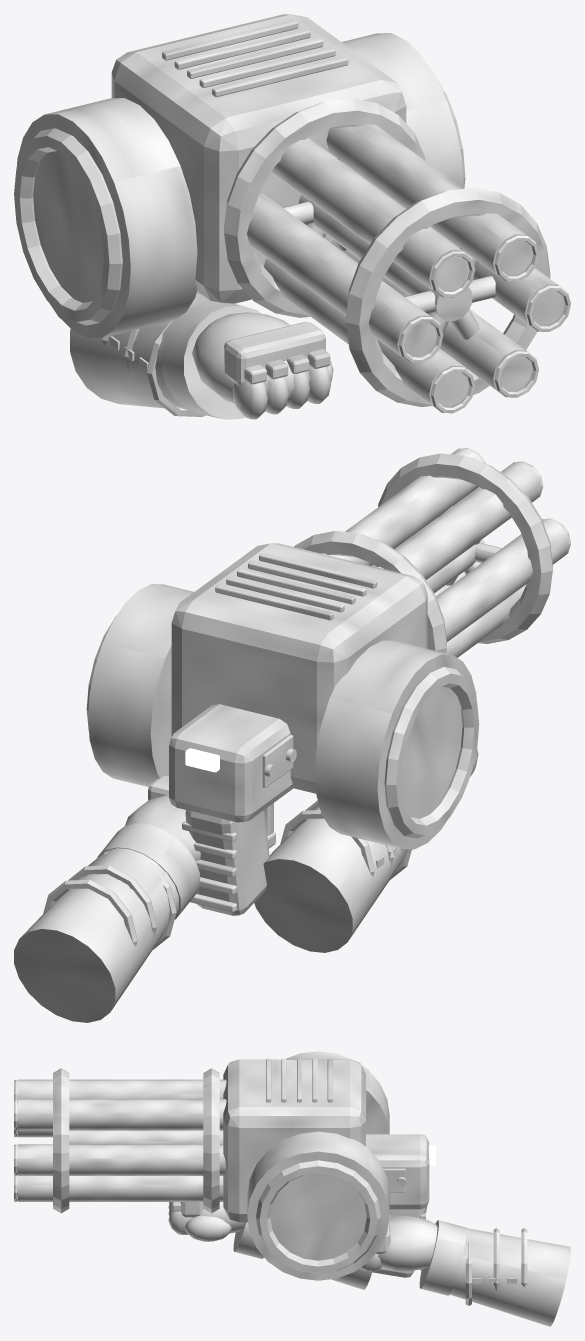
Rendered from chaingun.glb.
3 renders of one model, top to bottom at view 1: azimuth 30°, elevation 25°; view 2: azimuth 150°, elevation 25°; view 3: azimuth 270°, elevation 25°, orthographic. The views are drawn at different scales.
Visible parts, largest first — view 1: weapon, barrels; view 2: weapon, barrels; view 3: weapon, barrels.
Boxes of the visible parts, box(x1,y1,x2,y2) form: weapon: box(14, 14, 465, 419); barrels: box(224, 98, 570, 413); weapon: box(14, 543, 479, 1022); barrels: box(294, 448, 570, 657); weapon: box(168, 1051, 570, 1326); barrels: box(14, 1068, 226, 1213).
Bounding box in the file's own units: 0.6412 × 0.6452 × 1.41.
Materials: 7 (7 with a texture image).
